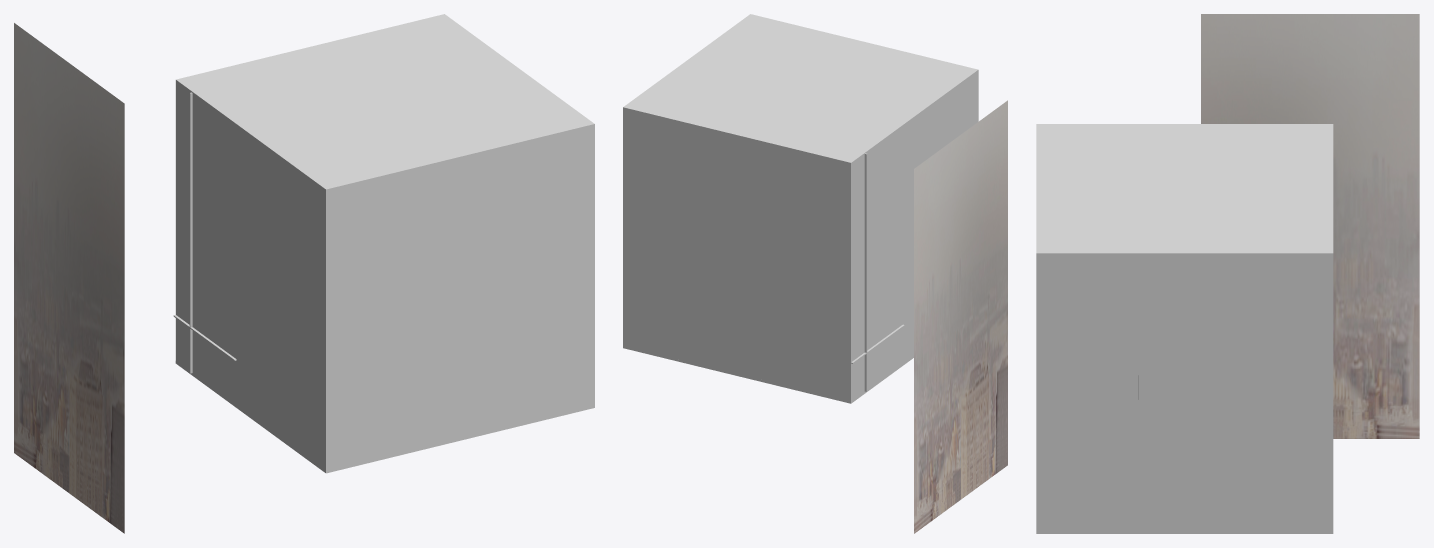
3 views of the same model, side by side, from view 1: azimuth 30°, elevation 25°; view 2: azimuth 150°, elevation 25°; view 3: azimuth 270°, elevation 25° (orthographic). The views are drawn at different scales.
Parts seen in each view (by area): view 1: House, outside, Window, floor; view 2: House, outside, Window, floor; view 3: House, outside, floor.
Boxes of the visible parts, x1,y1,x2,y2 form: House: (173, 14, 594, 470); outside: (14, 23, 124, 533); Window: (176, 80, 236, 404); floor: (175, 361, 594, 473); House: (623, 14, 978, 400); outside: (914, 100, 1007, 533); Window: (851, 125, 902, 400); floor: (623, 345, 913, 403); House: (1036, 124, 1333, 530); outside: (1201, 14, 1419, 438); floor: (1036, 531, 1333, 533).
Size of the model in its own units: 1179 by 1254 by 1024.
